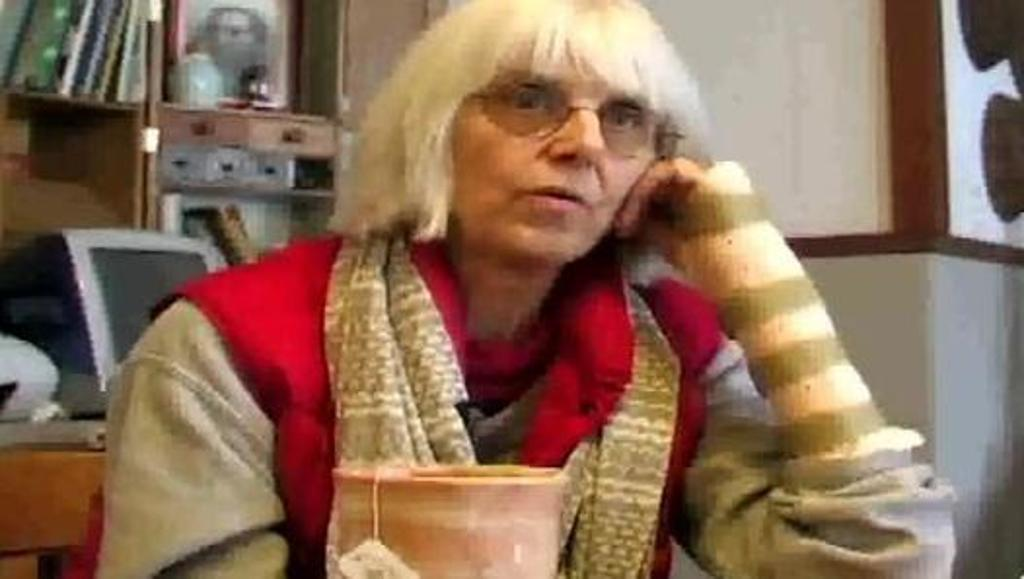face: (456, 20, 660, 262)
